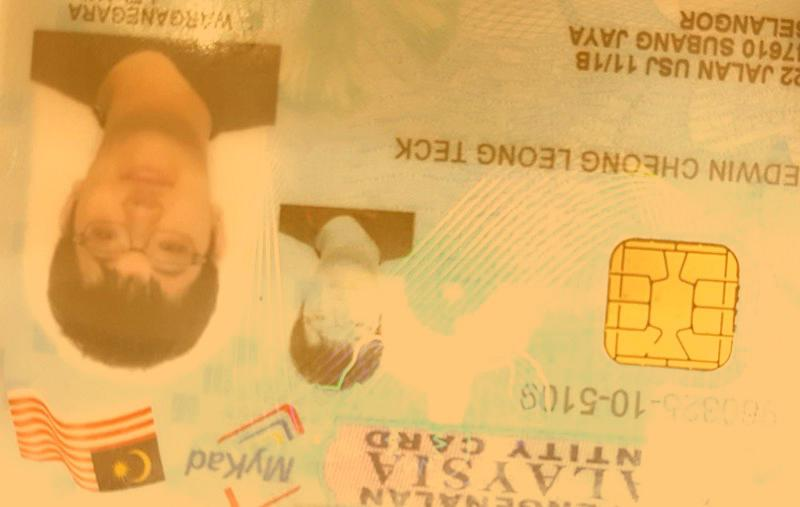hologram: (417, 177, 594, 336)
